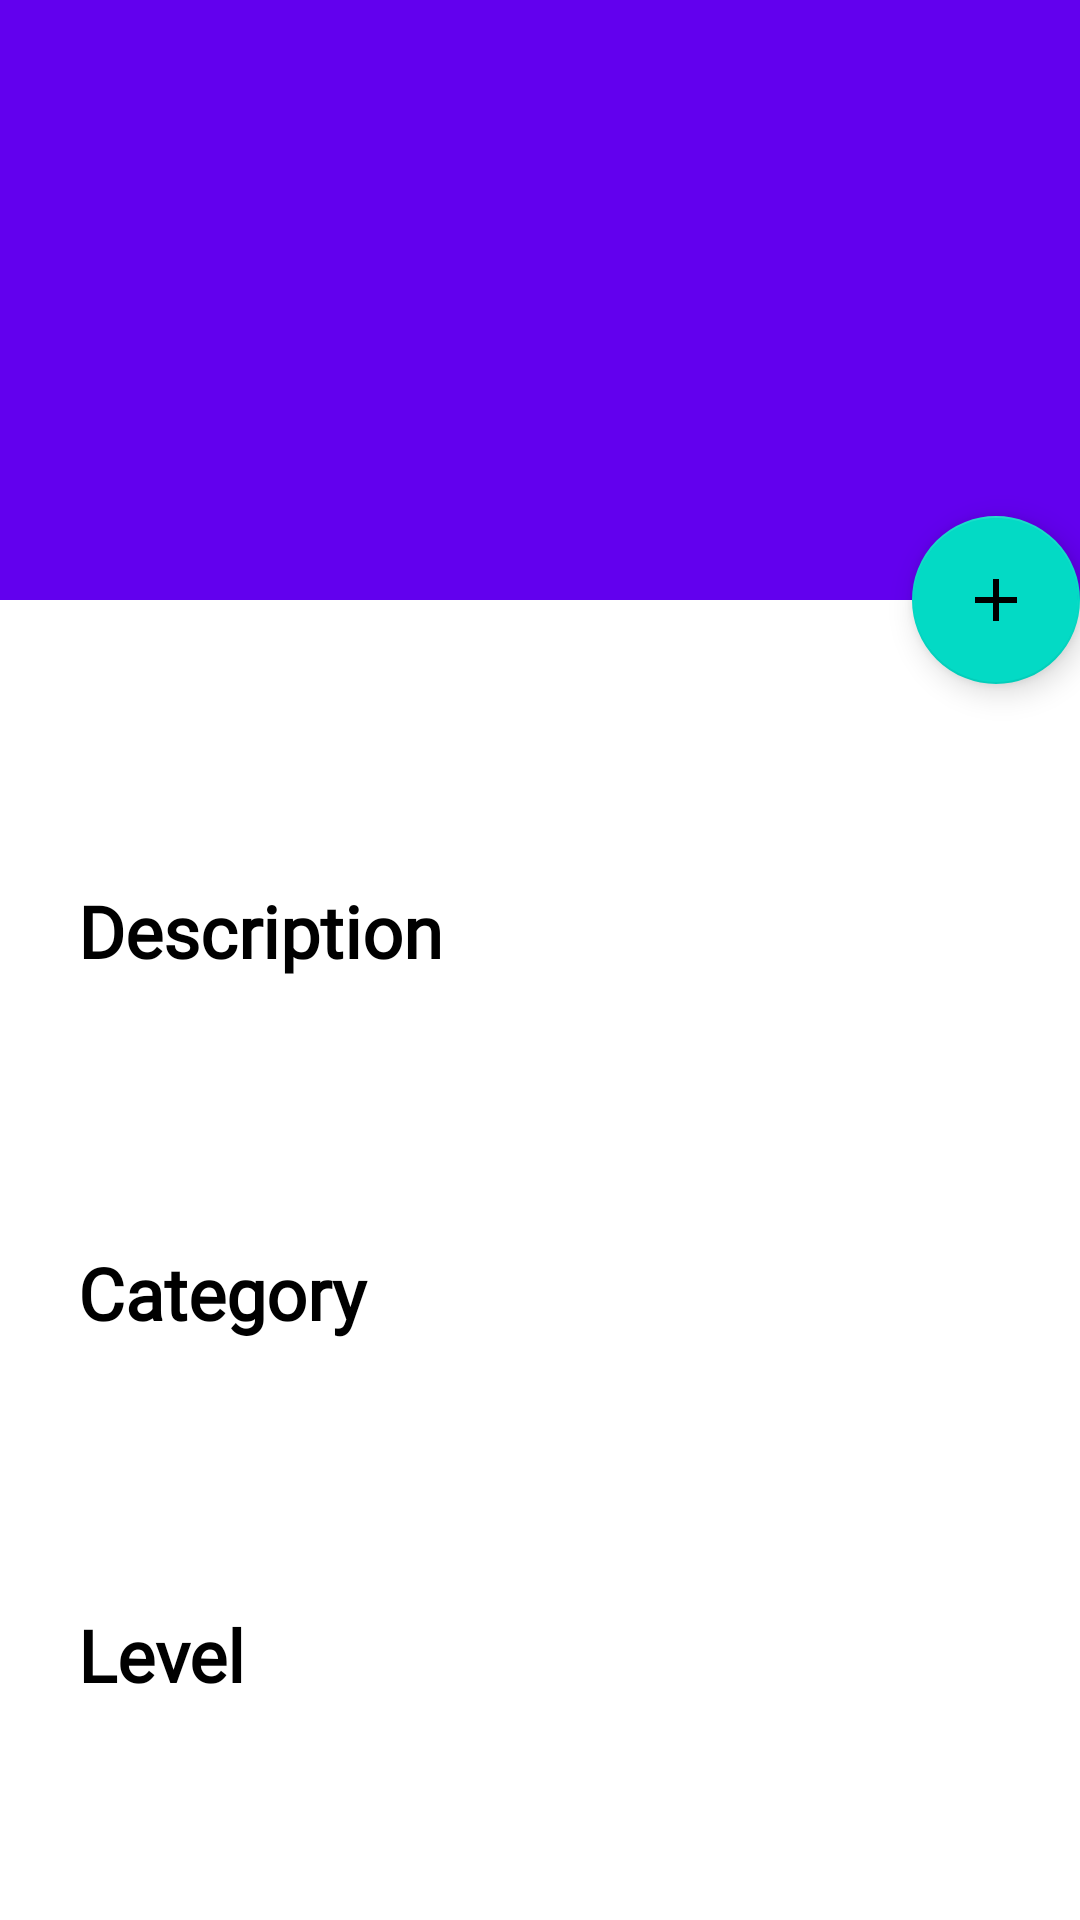

Where to tap for icons on this 1080w x 1920h app screen, as (x=x, y=y):
Add exercise: (x=996, y=600)
